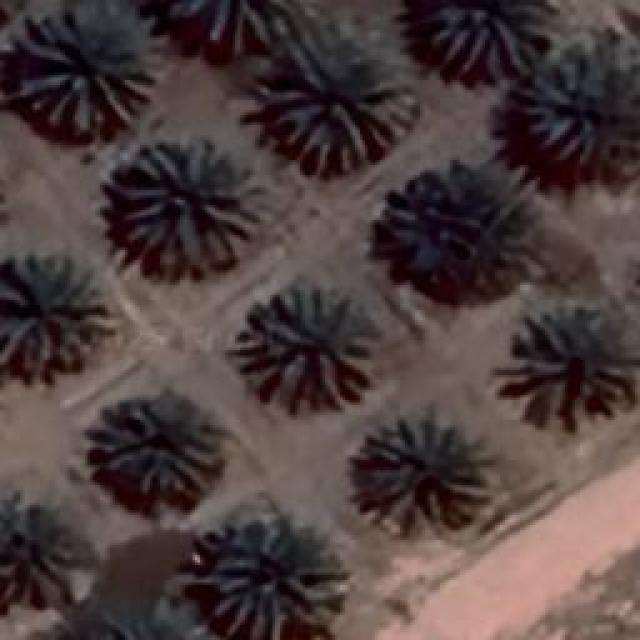PalmTree: (265, 30, 413, 175), (110, 138, 262, 278), (15, 4, 160, 138), (232, 285, 380, 410), (401, 168, 531, 302), (517, 47, 640, 181), (205, 522, 345, 636), (510, 305, 632, 430), (364, 418, 488, 532), (90, 395, 220, 500), (0, 250, 102, 370), (425, 0, 550, 78), (0, 500, 88, 602), (60, 593, 215, 640), (156, 0, 283, 55)
